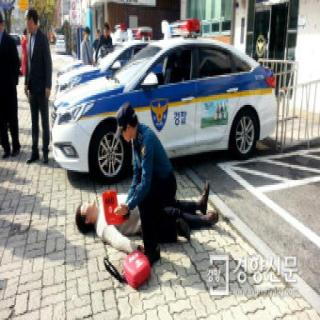Police_car: (48, 16, 280, 182), (55, 24, 162, 96), (56, 24, 129, 79)
